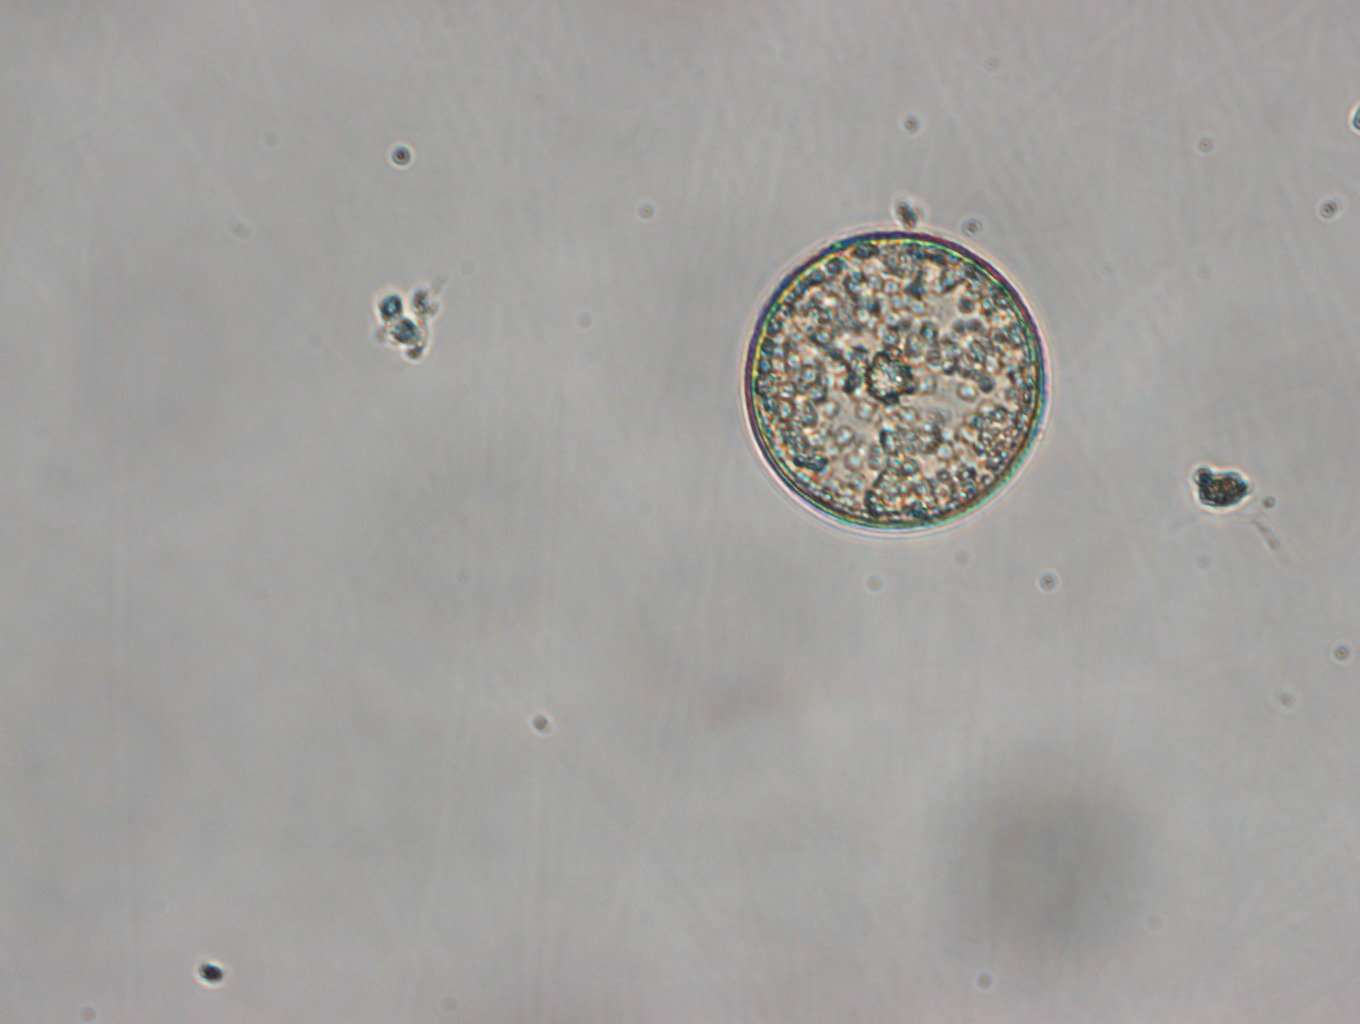coscinodiscus: (744, 229, 1053, 534)
